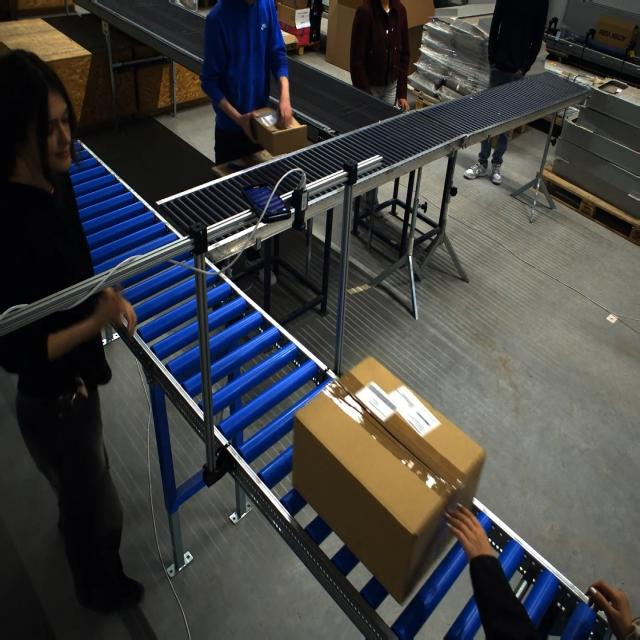box: (304, 369, 477, 591), (251, 108, 306, 158)
